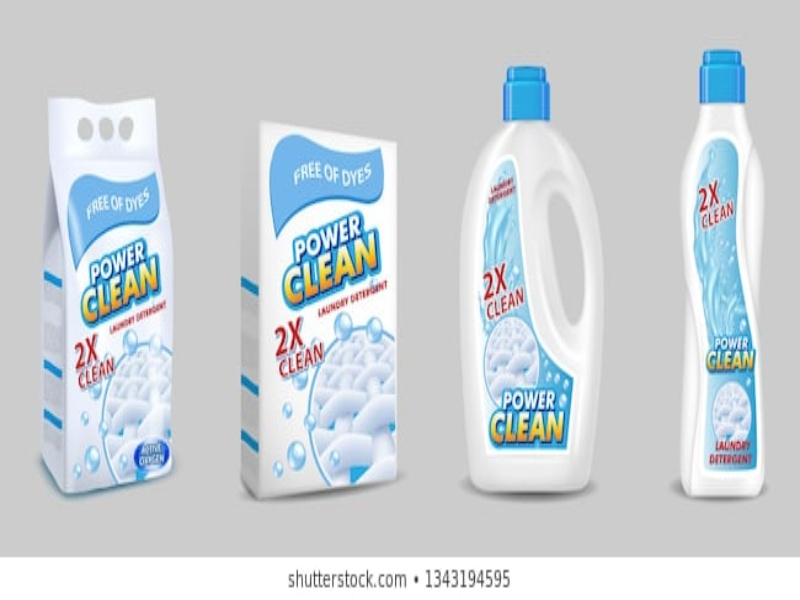detergent-bottle: (452, 59, 618, 501), (674, 44, 774, 507)
